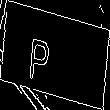P_N: (43, 27, 67, 83)
